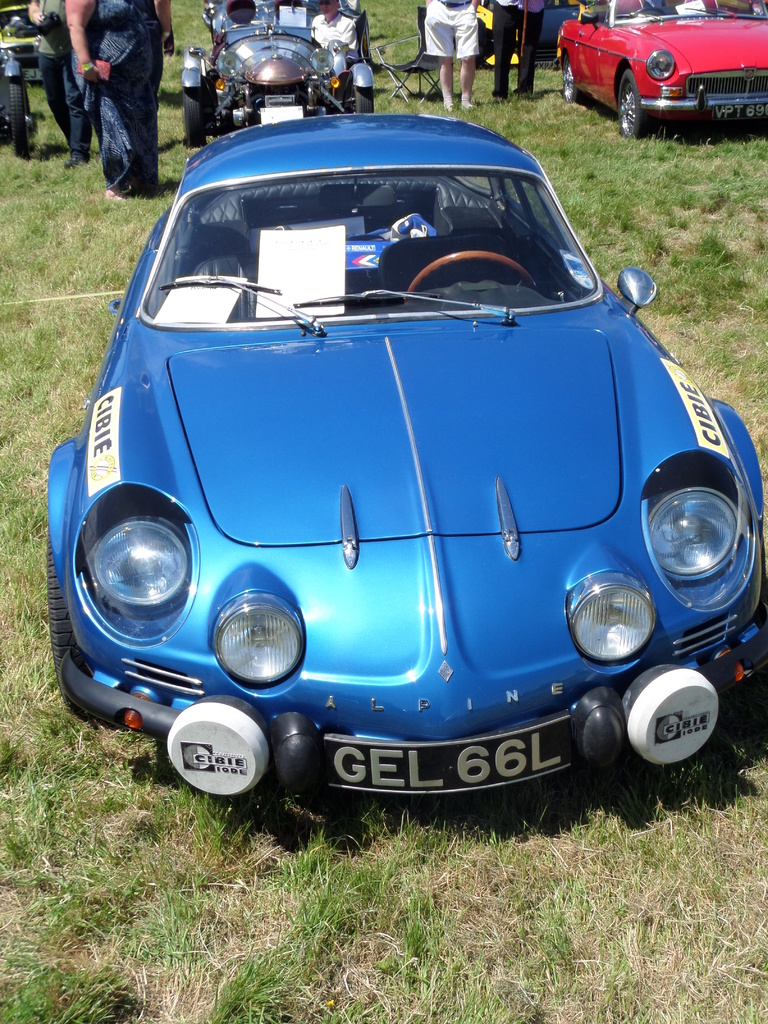Footwear: (458, 93, 478, 111), (65, 154, 88, 168), (445, 99, 455, 113)
